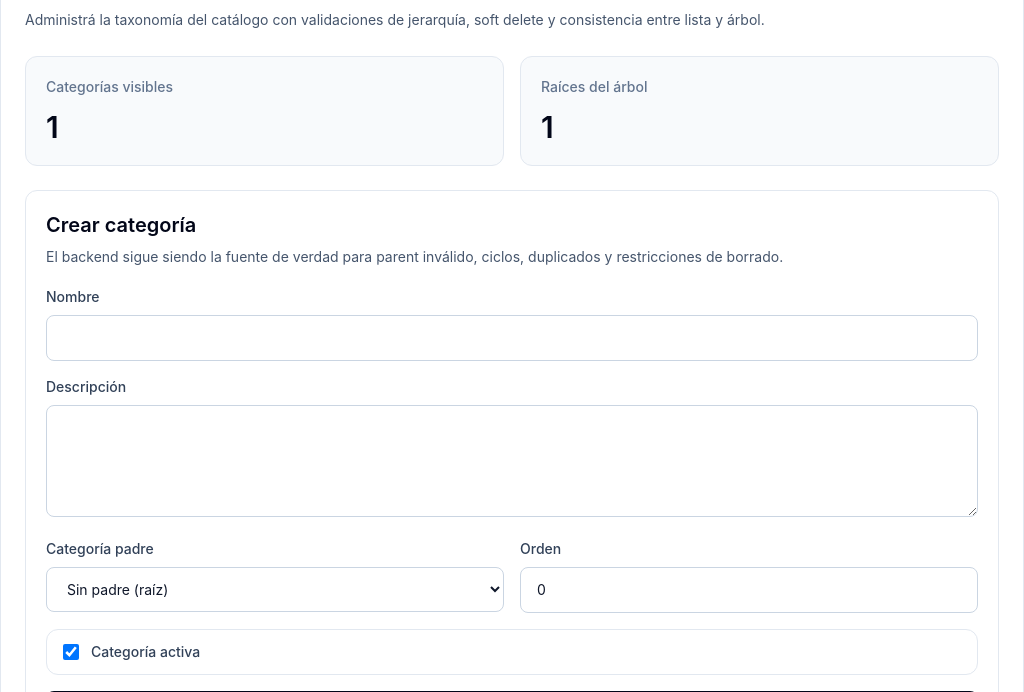
Test case: CategoryManagementPage › creates a category and refetches list and tree queries
Type "Gaseosas" into the field labelled "Nombre" at (512, 338), box [46,315,978,361]
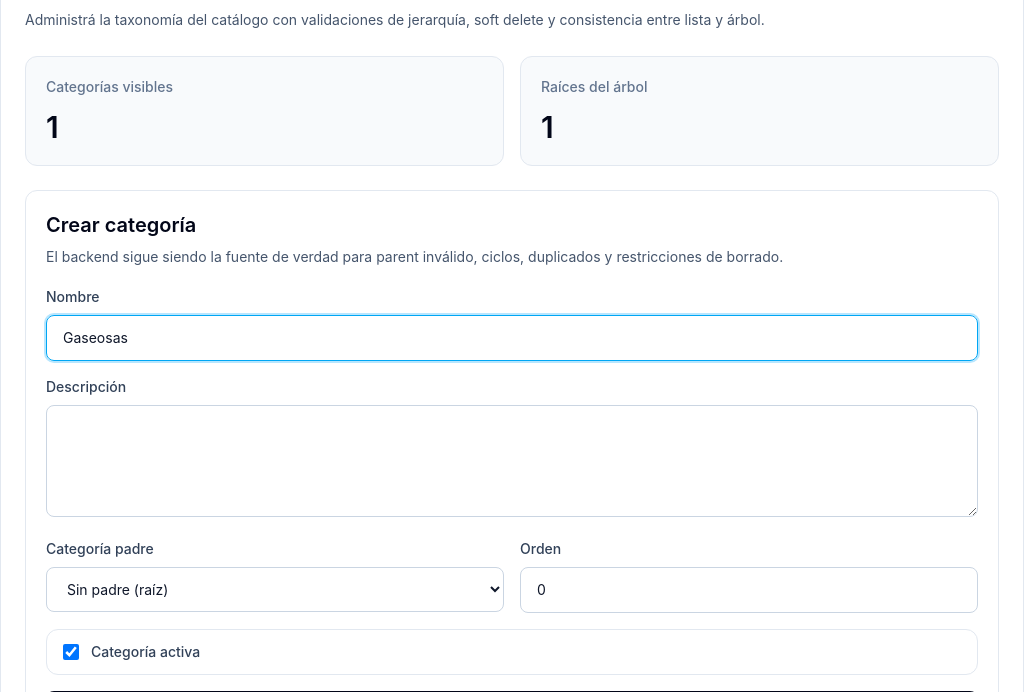
Type "Con gas" into the text box labelled "Descripción" at (512, 461), box [46,405,978,517]
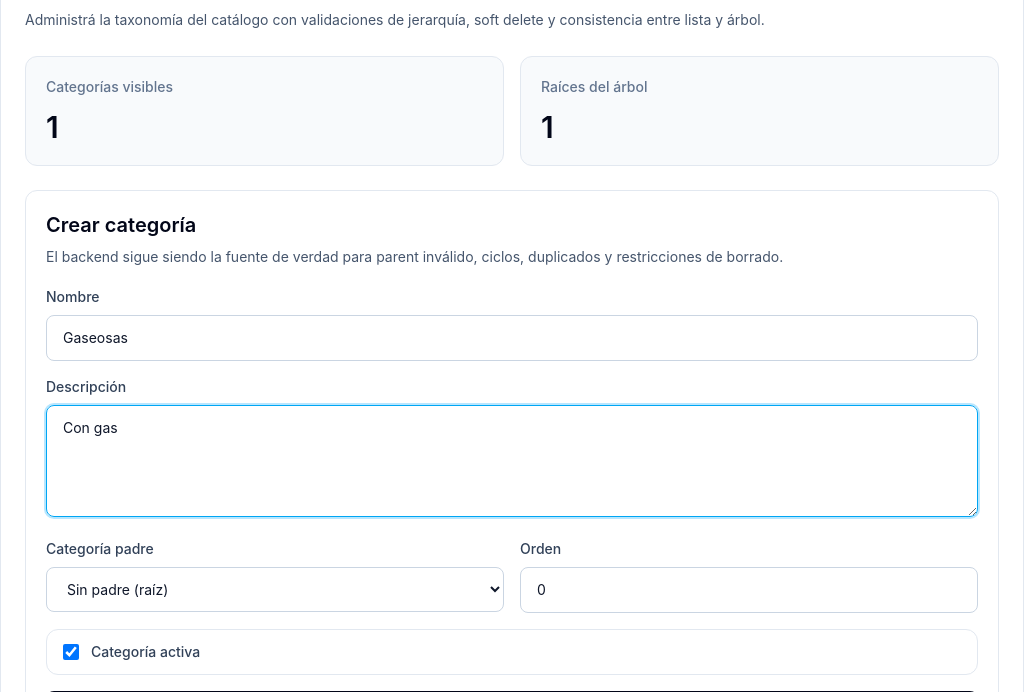
Select "Bebidas" in the dropdown labelled "Categoría padre" at (275, 590), box [46,567,504,612]
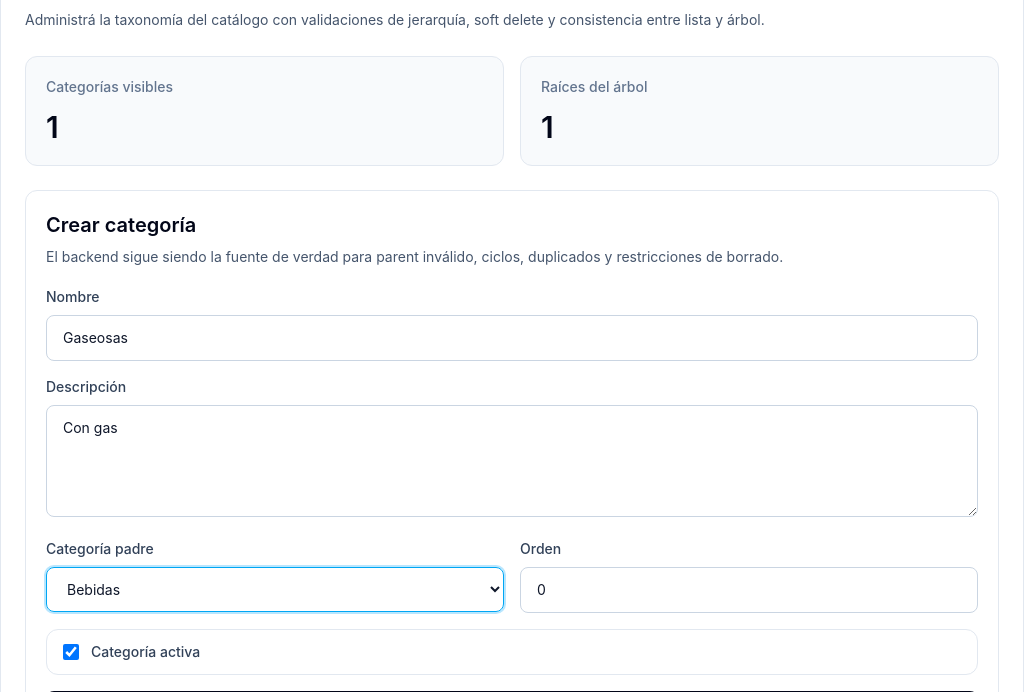
Type "1" into the number field labelled "Orden" at (749, 590), box [520,567,978,613]
(page scrolled)
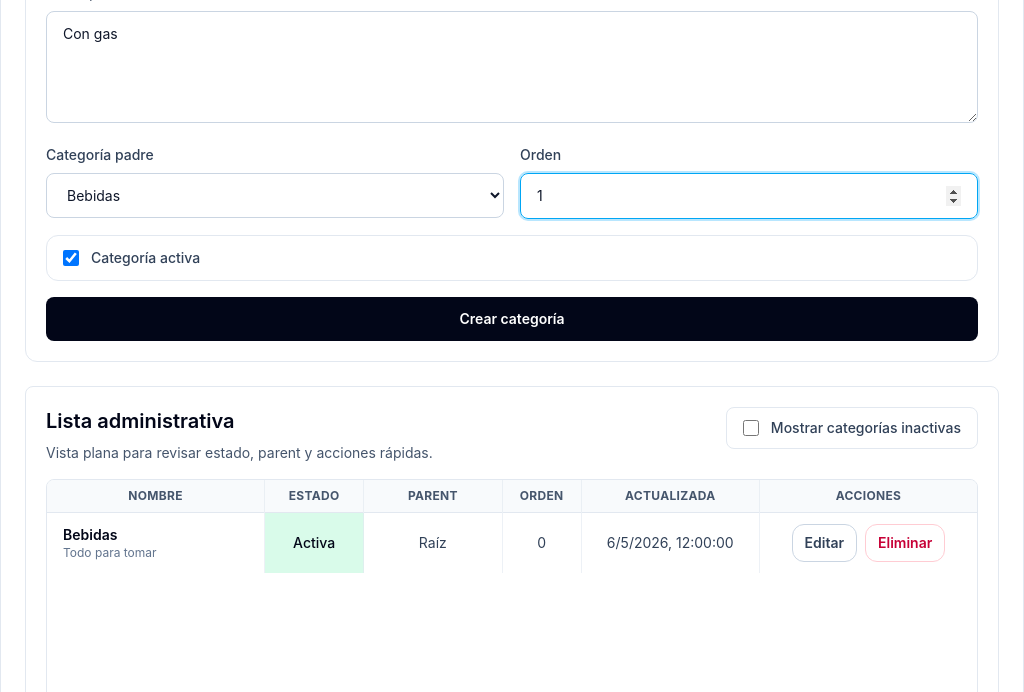
Click the button "Crear categoría" at (512, 319), box [46,297,978,341]
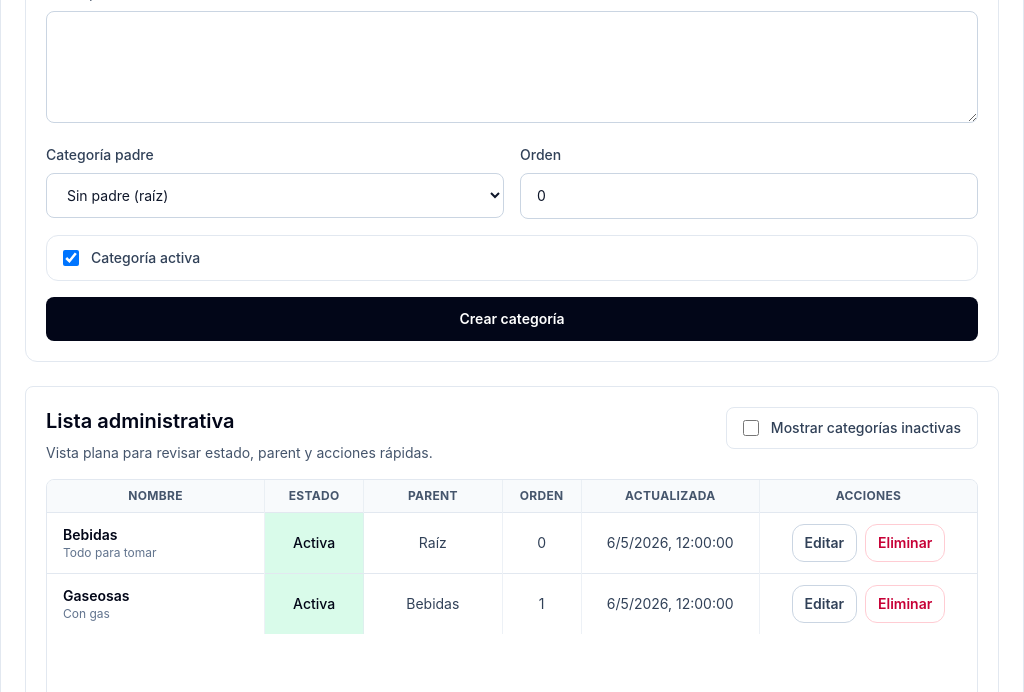
Now the text "Gaseosas" is shown 2 times
